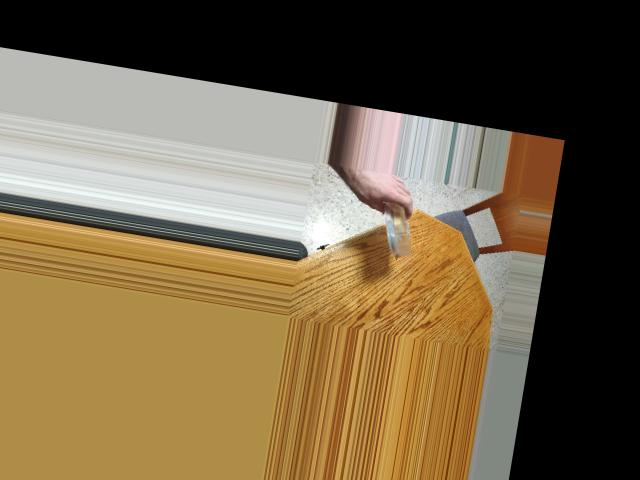cheese: (375, 200, 422, 252)
